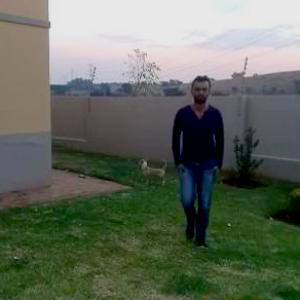follow: (169, 75, 222, 234)
